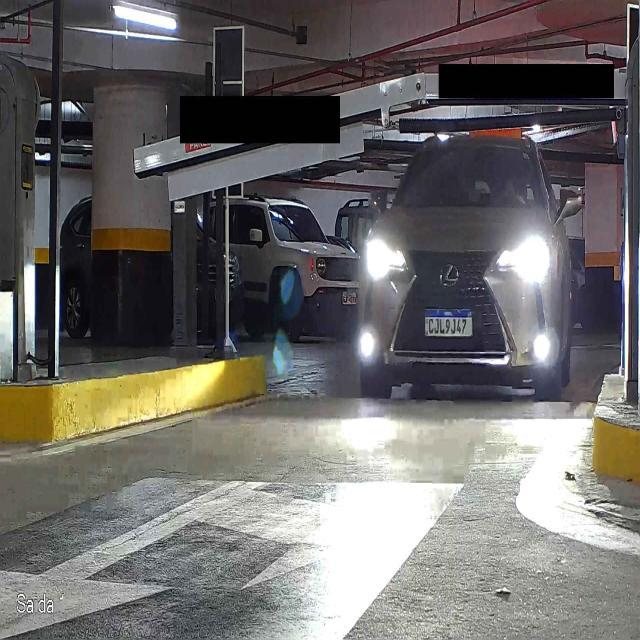mercosul_plate: (422, 305, 475, 340)
